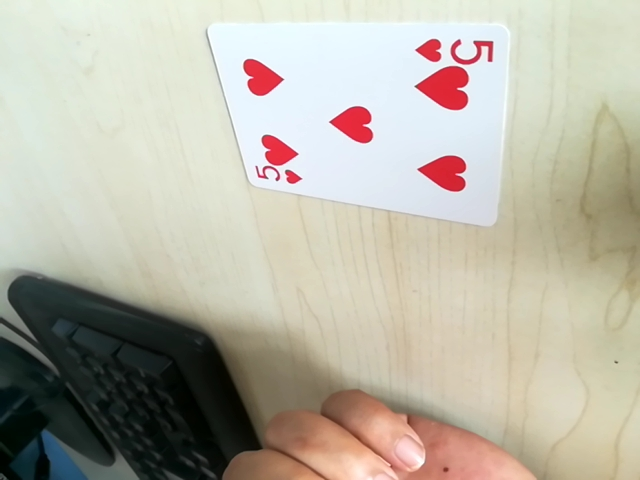hx 5: (414, 28, 495, 68), (252, 164, 305, 191)
